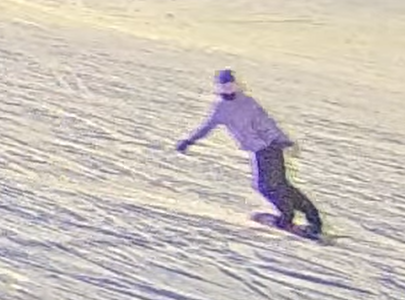snowboarder: (170, 67, 337, 245)
